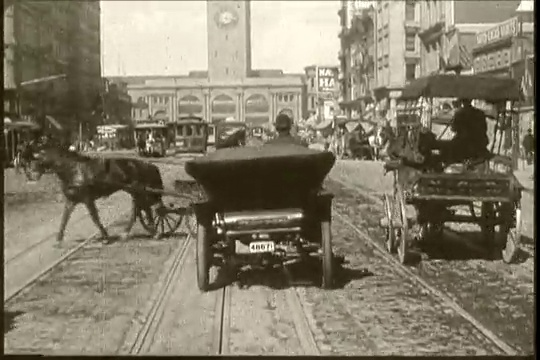car: (178, 108, 347, 298)
carriage: (376, 69, 536, 264)
horse: (20, 131, 221, 246)
trolley: (164, 108, 209, 152)
